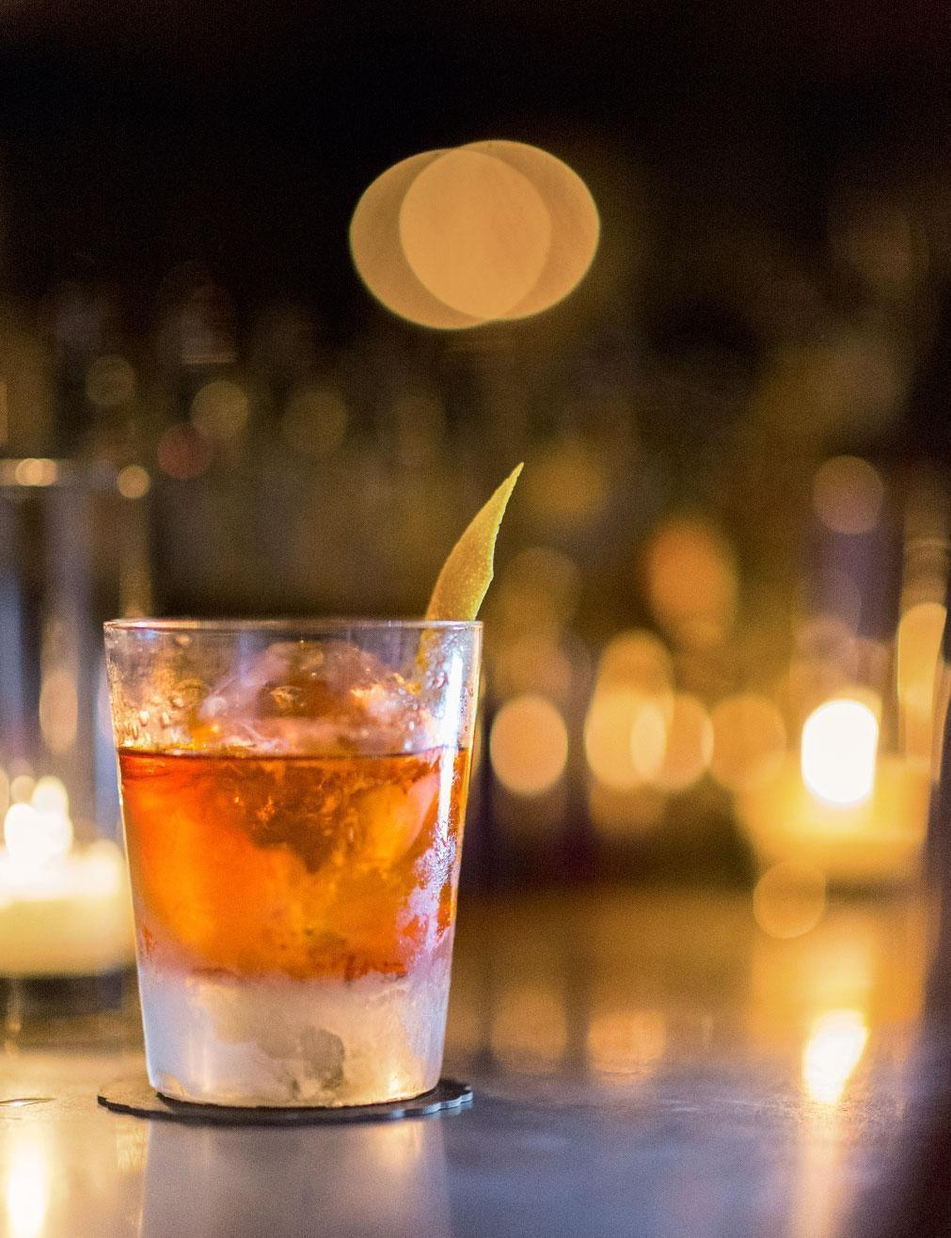glass-normal: (103, 609, 478, 1114)
